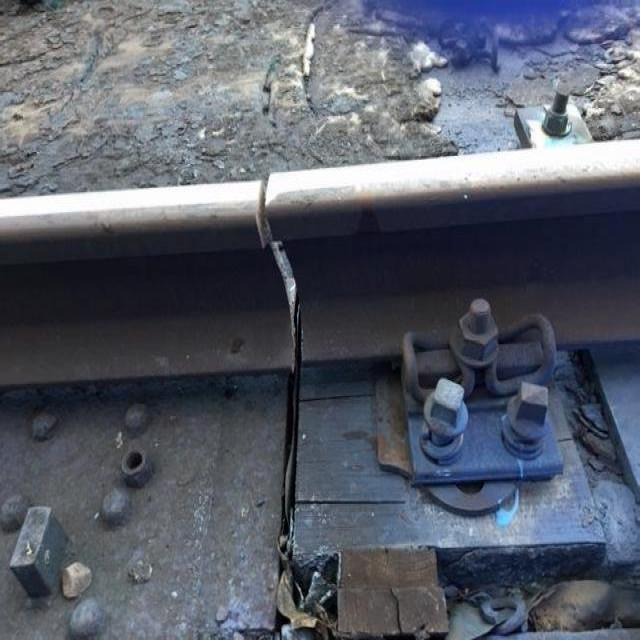crack: (224, 166, 340, 576)
